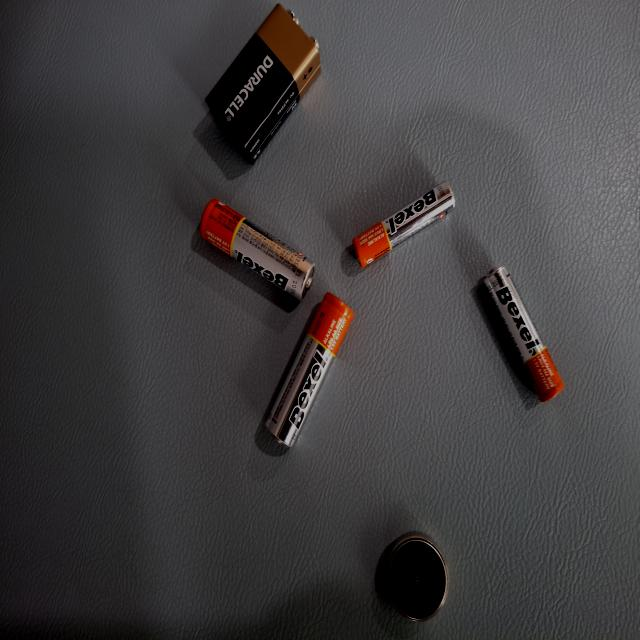9V: (2, 426, 122, 578)
AA: (218, 385, 334, 497), (150, 433, 227, 585)
AAA: (197, 101, 302, 213), (136, 247, 198, 380)
COIN: (398, 255, 466, 341)
